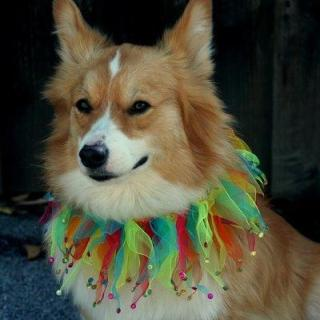dog: (38, 0, 240, 207)
nose: (76, 142, 110, 172)
